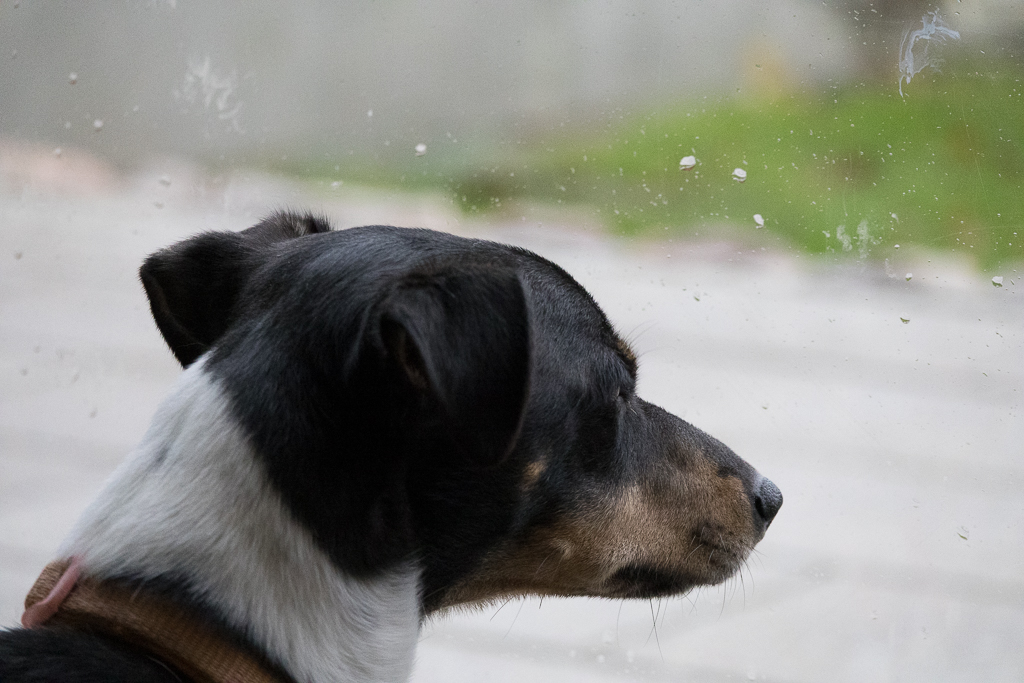Dog: (0, 200, 796, 683)
